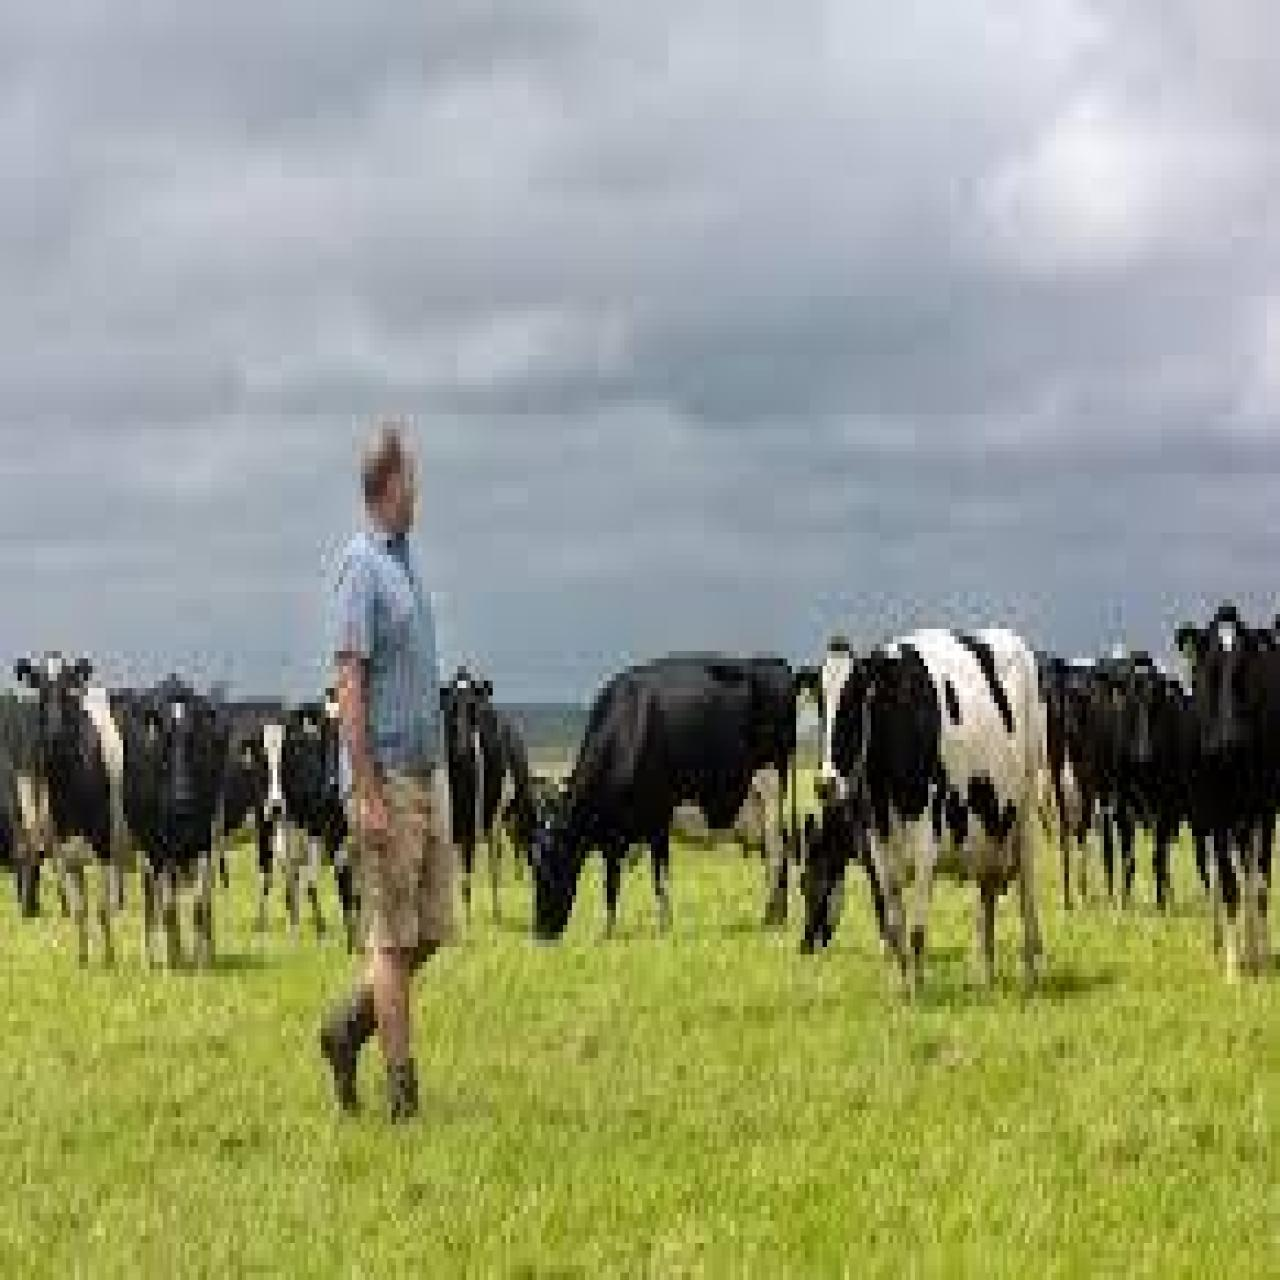cow: (806, 626, 1049, 1017), (530, 655, 803, 944), (1172, 611, 1278, 988), (110, 678, 233, 988), (7, 654, 129, 966), (433, 673, 530, 925), (1092, 659, 1185, 911), (244, 714, 336, 937)
